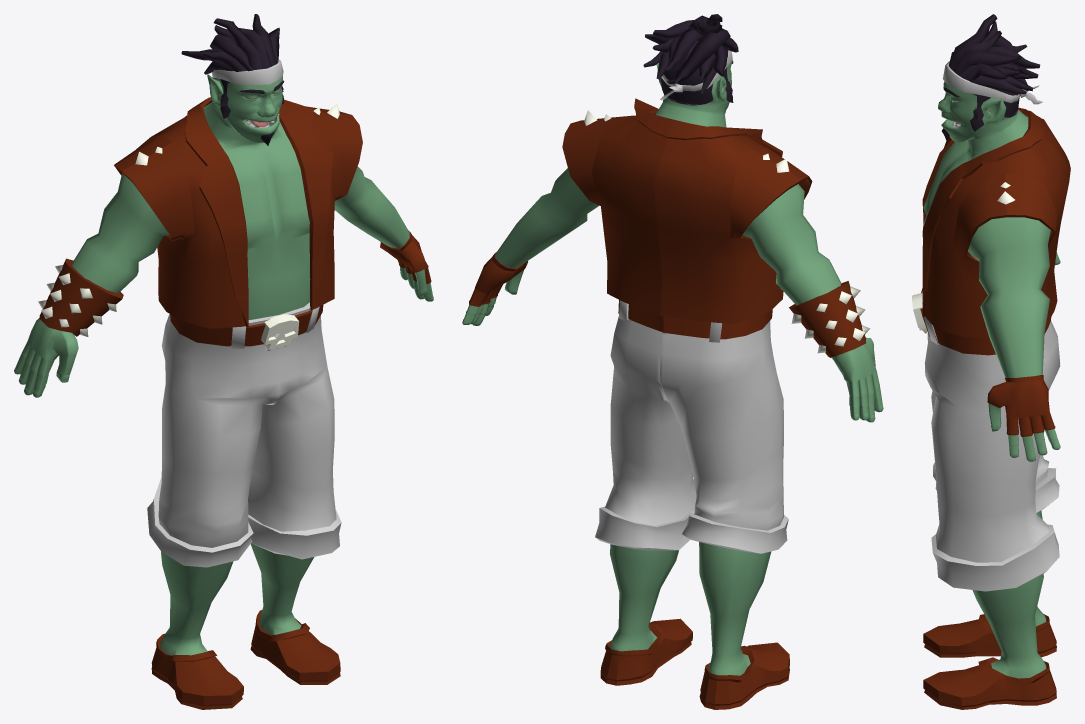
Rendered from Sid_toMixamo.fbx.
The picture shows the model from 3 angles, left to right: view 1: azimuth 30°, elevation 25°; view 2: azimuth 150°, elevation 25°; view 3: azimuth 270°, elevation 25°; orthographic projection. The views are drawn at different scales.
Parts seen in each view (by area): view 1: Mesh_sid_leather_mesh, Mesh_sid_cloth_mesh, Mesh_sid_body_mesh, Mesh_sid_hair_mesh, Mesh_sid_boneOrnaments_mesh; view 2: Mesh_sid_leather_mesh, Mesh_sid_cloth_mesh, Mesh_sid_body_mesh, Mesh_sid_hair_mesh, Mesh_sid_boneOrnaments_mesh; view 3: Mesh_sid_leather_mesh, Mesh_sid_cloth_mesh, Mesh_sid_body_mesh, Mesh_sid_hair_mesh, Mesh_sid_boneOrnaments_mesh.
Part boxes in pixels (x1,y1,x2,y2): Mesh_sid_leather_mesh: (39, 97, 431, 709); Mesh_sid_cloth_mesh: (147, 60, 341, 567); Mesh_sid_body_mesh: (14, 74, 433, 655); Mesh_sid_hair_mesh: (181, 14, 284, 145); Mesh_sid_boneOrnaments_mesh: (38, 103, 339, 350); Mesh_sid_leather_mesh: (469, 98, 865, 709); Mesh_sid_cloth_mesh: (595, 50, 788, 553); Mesh_sid_body_mesh: (462, 61, 883, 675); Mesh_sid_hair_mesh: (643, 14, 738, 105); Mesh_sid_boneOrnaments_mesh: (584, 110, 870, 353); Mesh_sid_leather_mesh: (920, 107, 1070, 709); Mesh_sid_cloth_mesh: (922, 61, 1060, 591); Mesh_sid_body_mesh: (923, 81, 1060, 678); Mesh_sid_hair_mesh: (942, 14, 1040, 140); Mesh_sid_boneOrnaments_mesh: (912, 182, 1014, 333).
Bounding box in the file's own units: 165 × 260 × 57.98.
